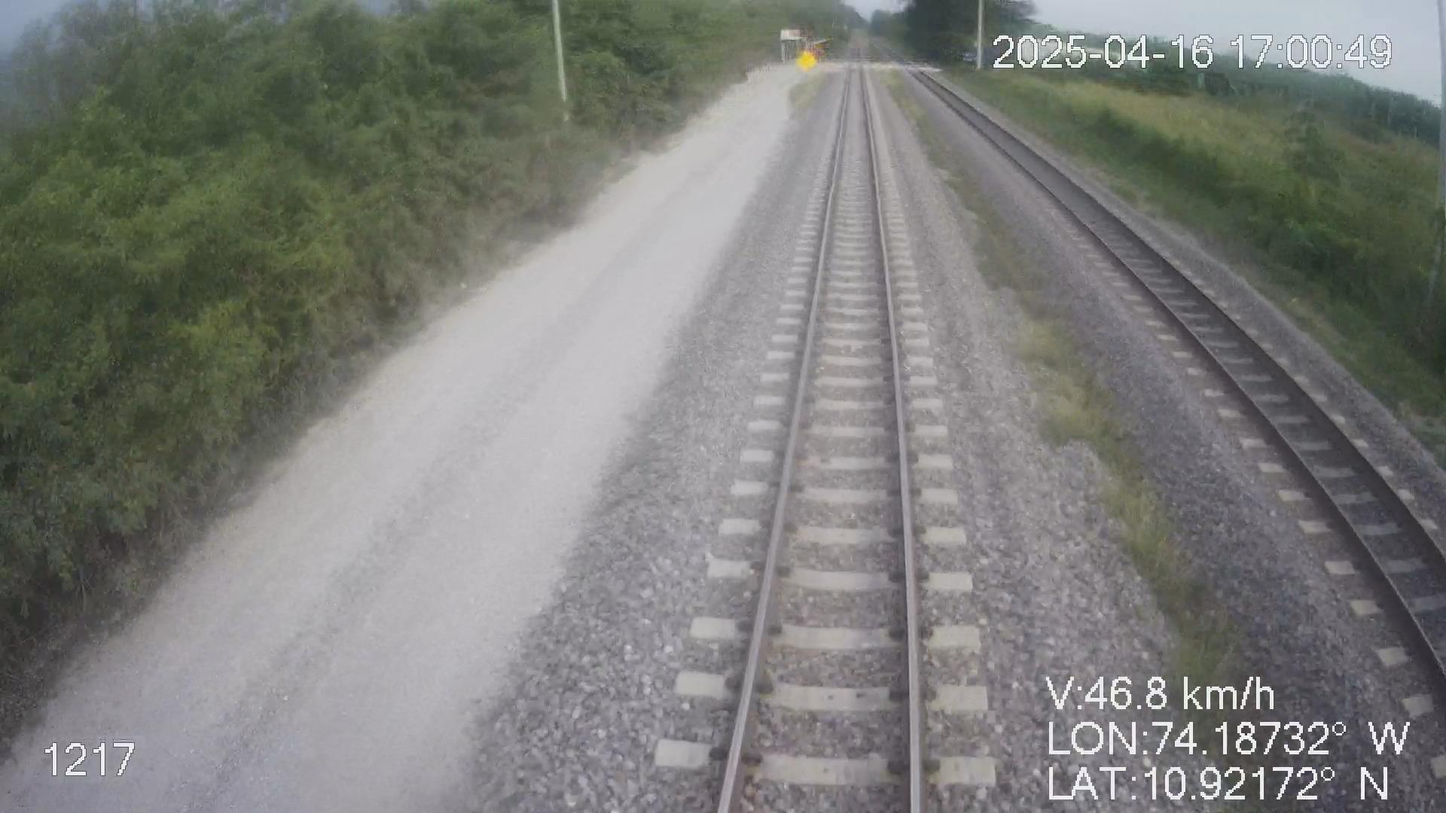Pasto: (0, 0, 853, 749), (905, 0, 1445, 470)
